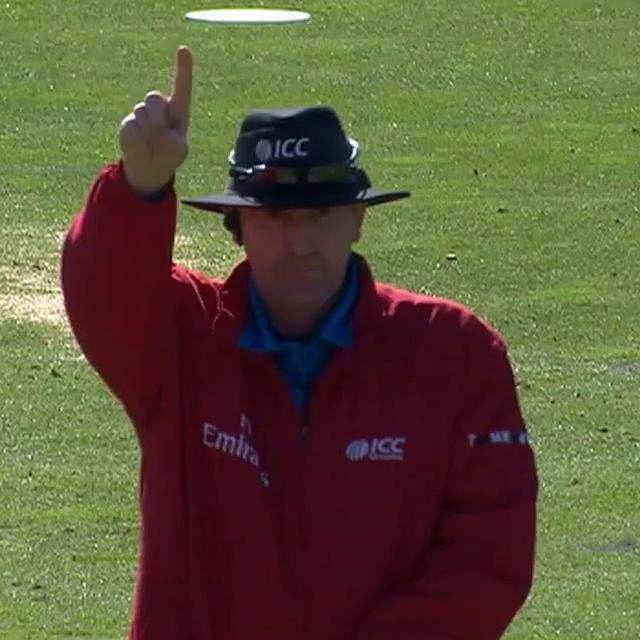umpire: (14, 38, 572, 640)
